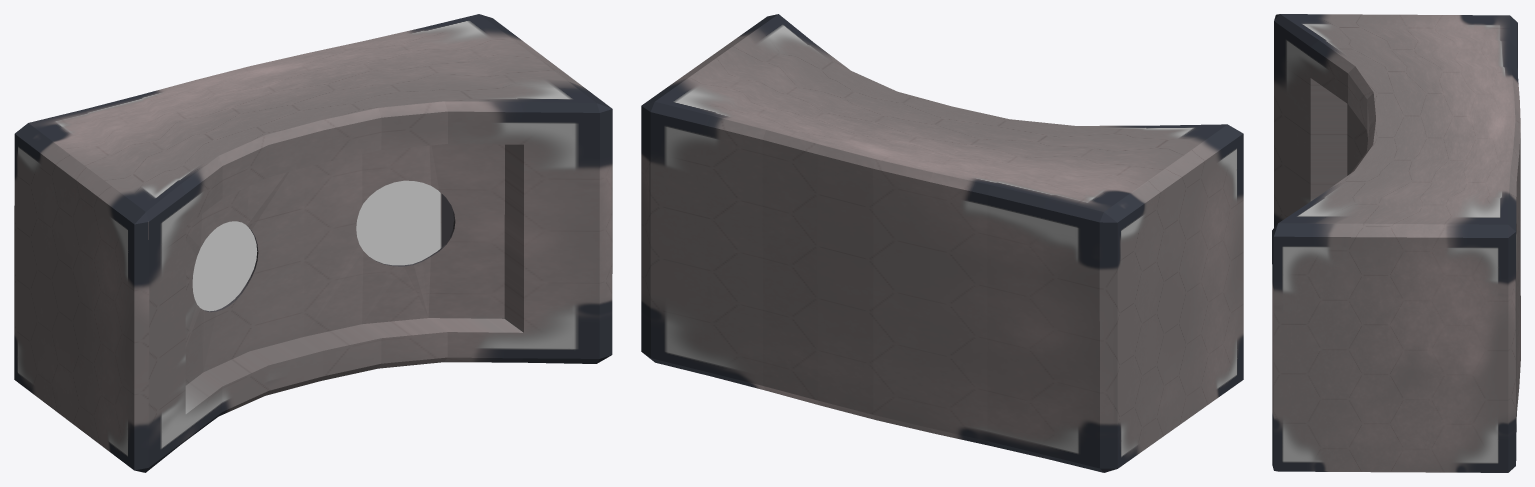
The model's file is HMD.fbx.
3 renders of one model, left to right at view 1: azimuth 30°, elevation 25°; view 2: azimuth 150°, elevation 25°; view 3: azimuth 270°, elevation 25°, orthographic. The views are drawn at different scales.
Visible parts, largest first — view 1: HMD, HMD.001, HMD.002; view 2: HMD; view 3: HMD.
Boxes of the visible parts, bbox=[...] form: HMD: bbox=[14, 14, 612, 472]; HMD.001: bbox=[356, 180, 440, 265]; HMD.002: bbox=[192, 221, 257, 311]; HMD: bbox=[641, 14, 1243, 472]; HMD: bbox=[1272, 14, 1520, 472].
Bounding box in the file's own units: 0.1714 × 0.089 × 0.0806.
